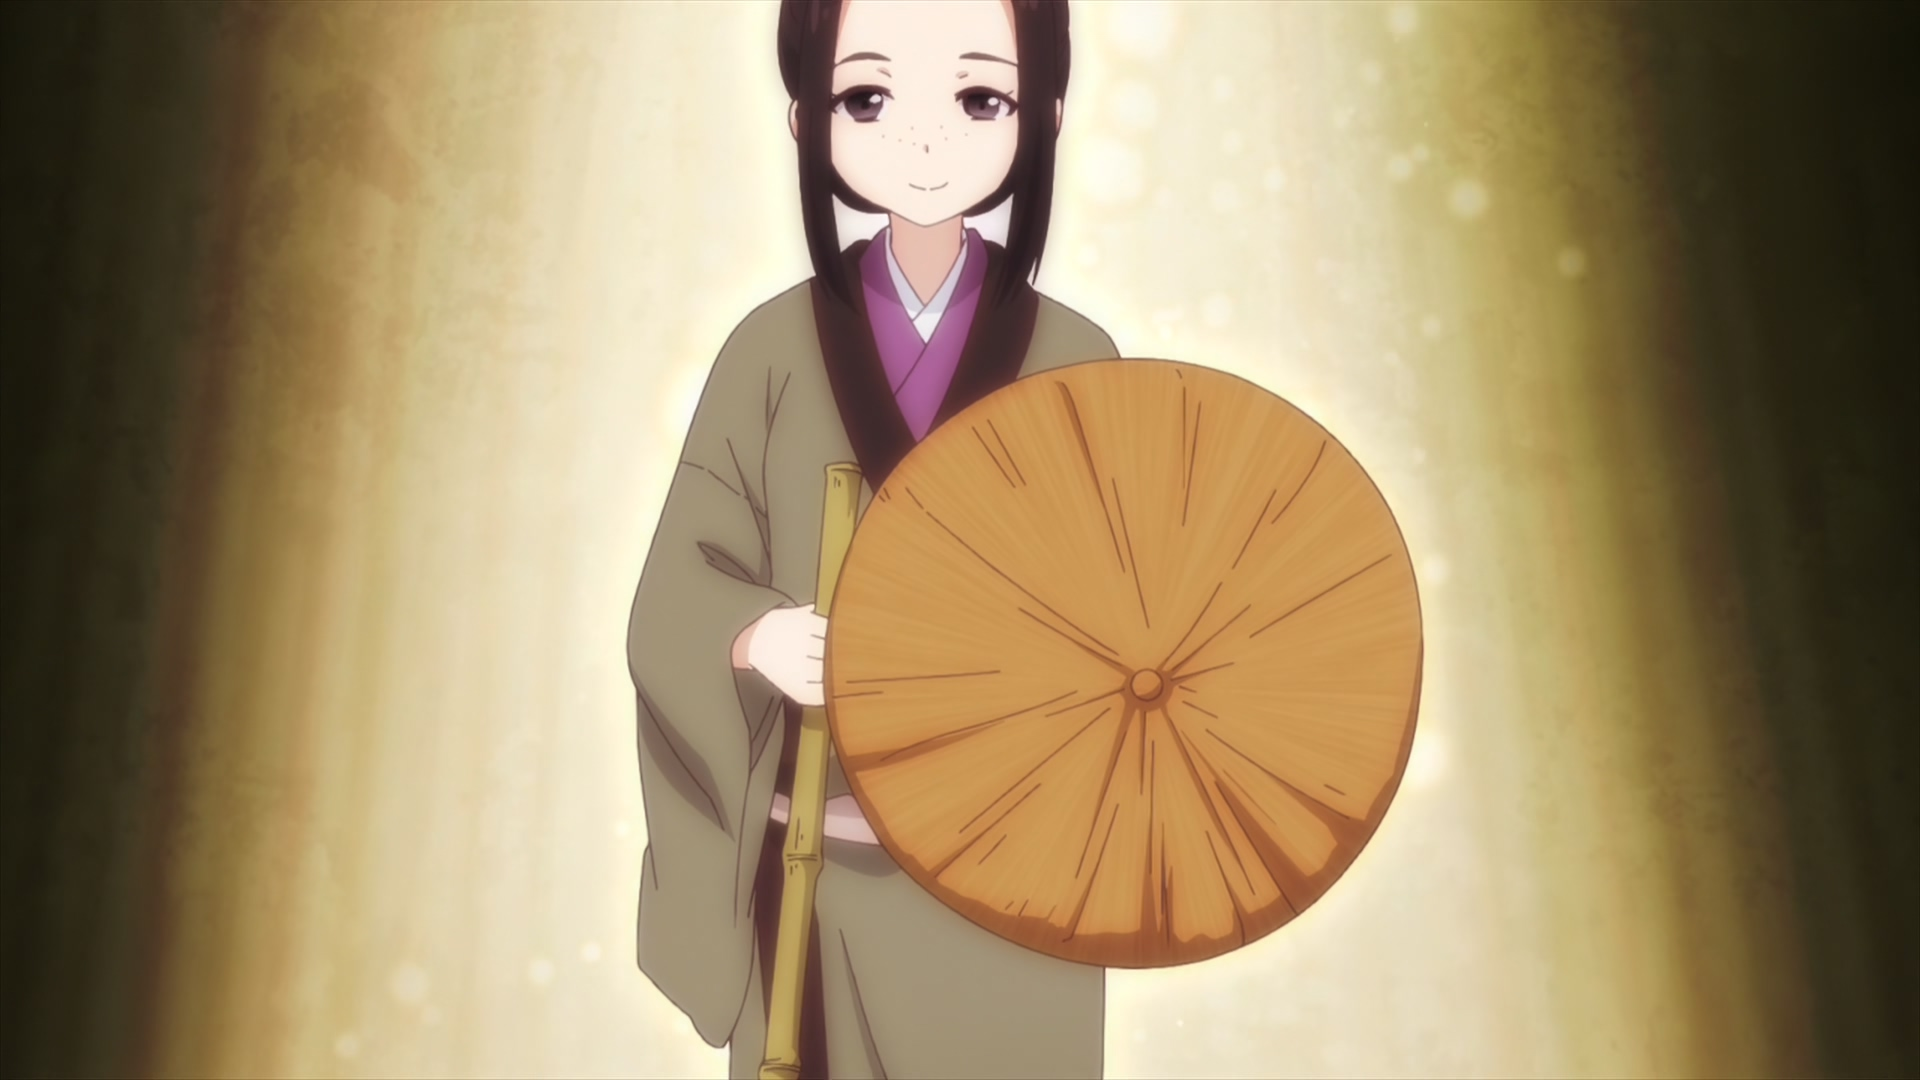其他: (626, 1, 1120, 1080)
